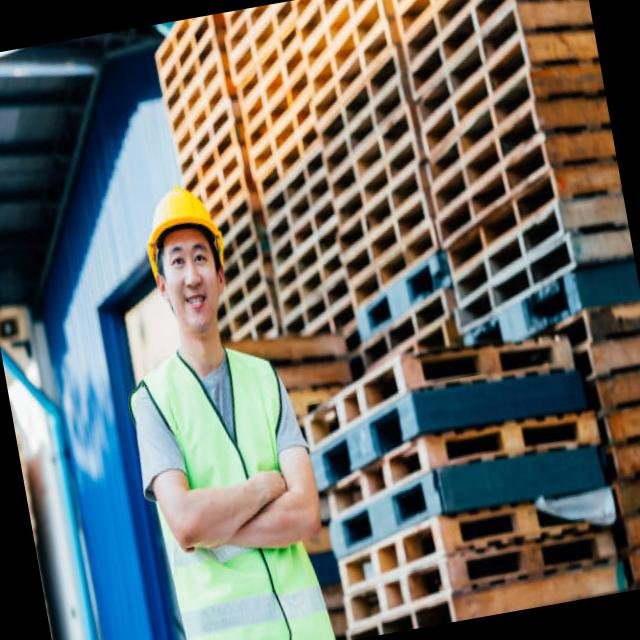Wooden-Pallets: (327, 403, 604, 516), (304, 332, 578, 441), (439, 160, 571, 310), (417, 24, 538, 170), (334, 163, 428, 265)
